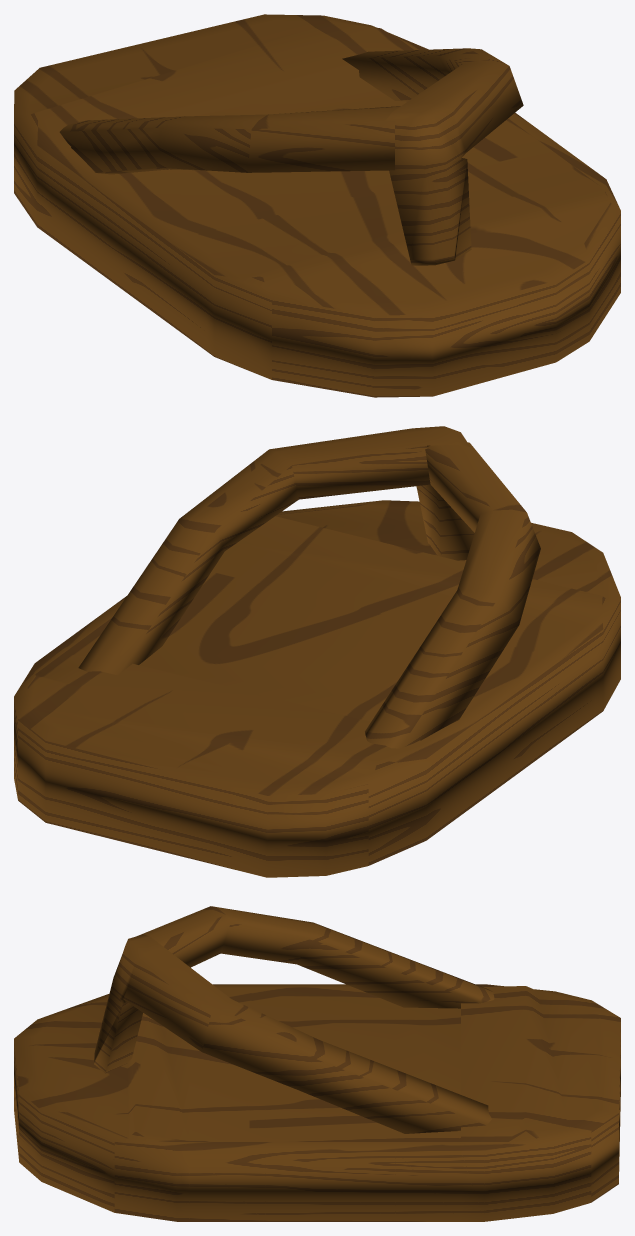
The model's file is sadalha .dae.
3 renders of one model, top to bottom at view 1: azimuth 30°, elevation 25°; view 2: azimuth 150°, elevation 25°; view 3: azimuth 270°, elevation 25°, orthographic. The views are drawn at different scales.
Parts seen in each view (by area): view 1: SADALHA; view 2: SADALHA; view 3: SADALHA.
Part boxes in pixels (bbox=[...]): SADALHA: bbox=[14, 14, 620, 397]; SADALHA: bbox=[14, 426, 620, 877]; SADALHA: bbox=[14, 906, 620, 1221].
Size of the model in its own units: 1.21 by 1.87 by 0.6523.
